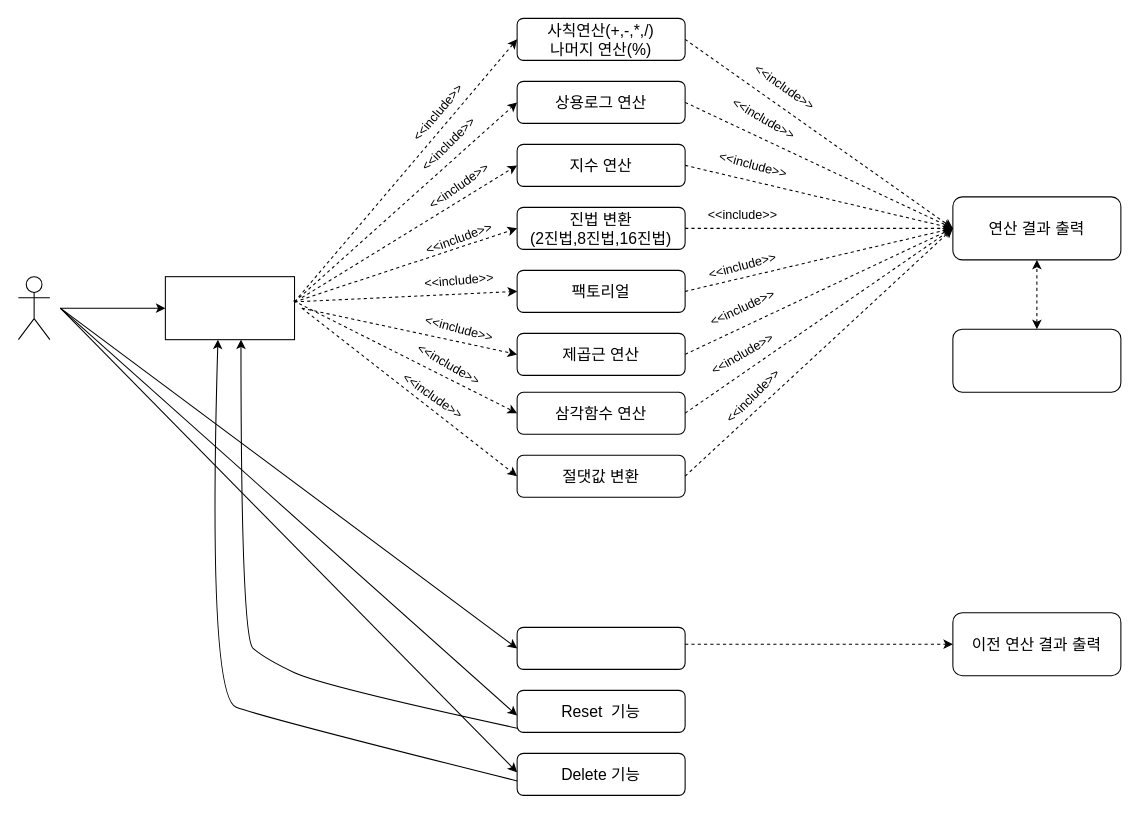
This 1139x814 diagram has some shape labels left out. Each missing label, with the centre of its shape:
"History 기능(On/Off)" belongs at point (600, 647).
"User" belongs at point (33, 308).
"분수 <-> 소수" belongs at point (1036, 360).
"숫자 입력" belongs at point (229, 308).
